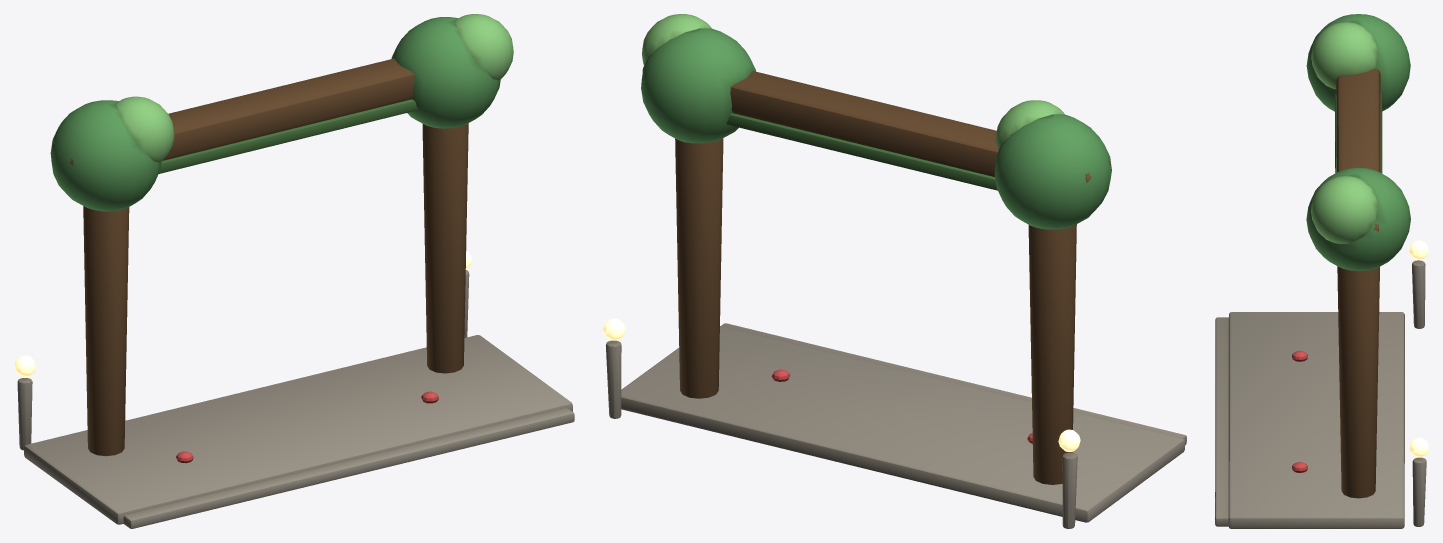
3 renders of one model, left to right at view 1: azimuth 30°, elevation 25°; view 2: azimuth 150°, elevation 25°; view 3: azimuth 270°, elevation 25°, orthographic. The views are drawn at different scales.
Visible parts, largest first — view 1: gate_92a699be; view 2: gate_92a699be; view 3: gate_92a699be.
Boxes of the visible parts, x1=… form: gate_92a699be: x1=14, y1=14, x2=574, y2=528; gate_92a699be: x1=603, y1=14, x2=1186, y2=528; gate_92a699be: x1=1215, y1=14, x2=1428, y2=528.
Size of the model in its own units: 5.83 by 4.41 by 2.55.
